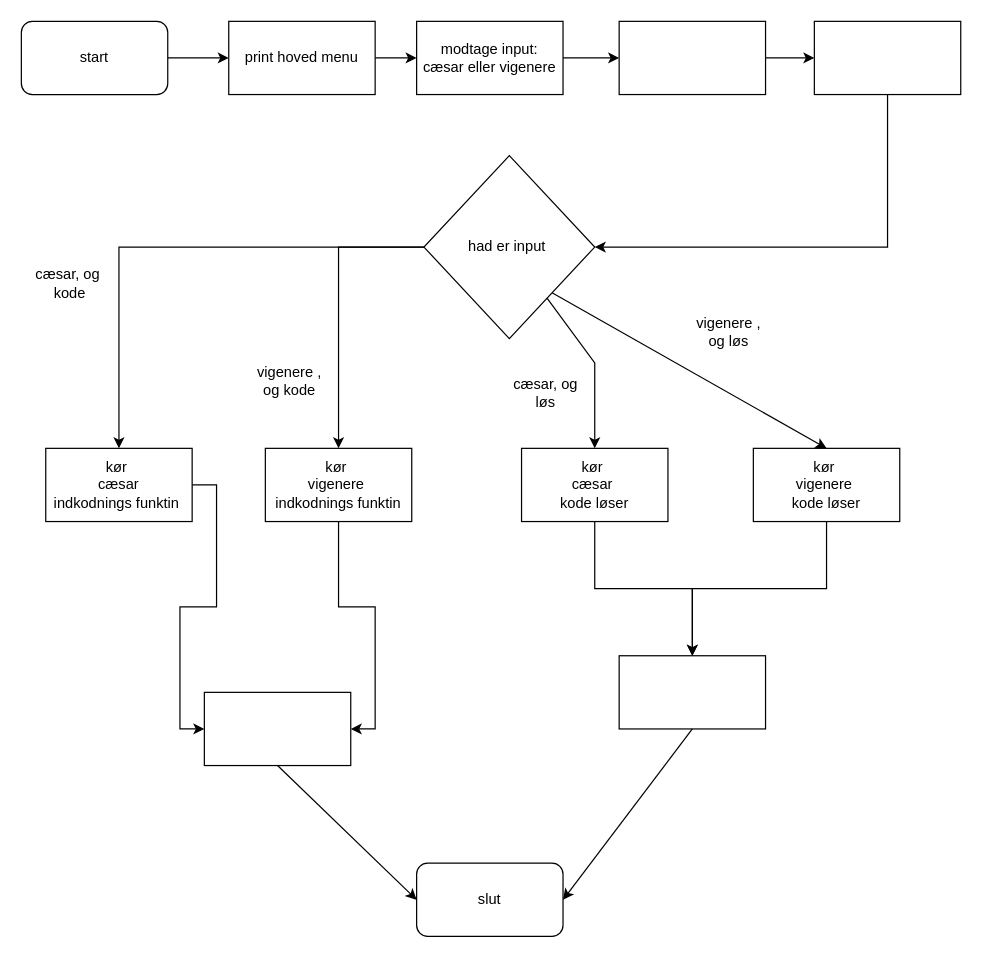
The diagram is 982 pixels wide and 958 high, and some of its shapes have lost their labels. Here are the shapes that lost their labels. From the top down, the centre of each, then its label:
At pixel 692 57: "print kode menu".
At pixel 887 57: "modtag input: kode eller løs".
At pixel 692 692: "print løsning".
At pixel 277 728: "print kode".
